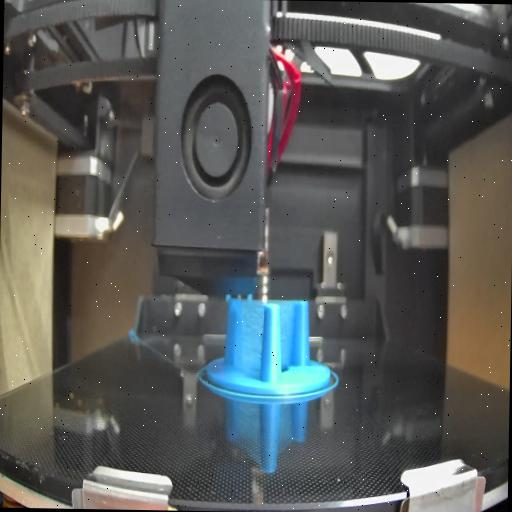stringing: (233, 302, 263, 376), (282, 303, 297, 373)
